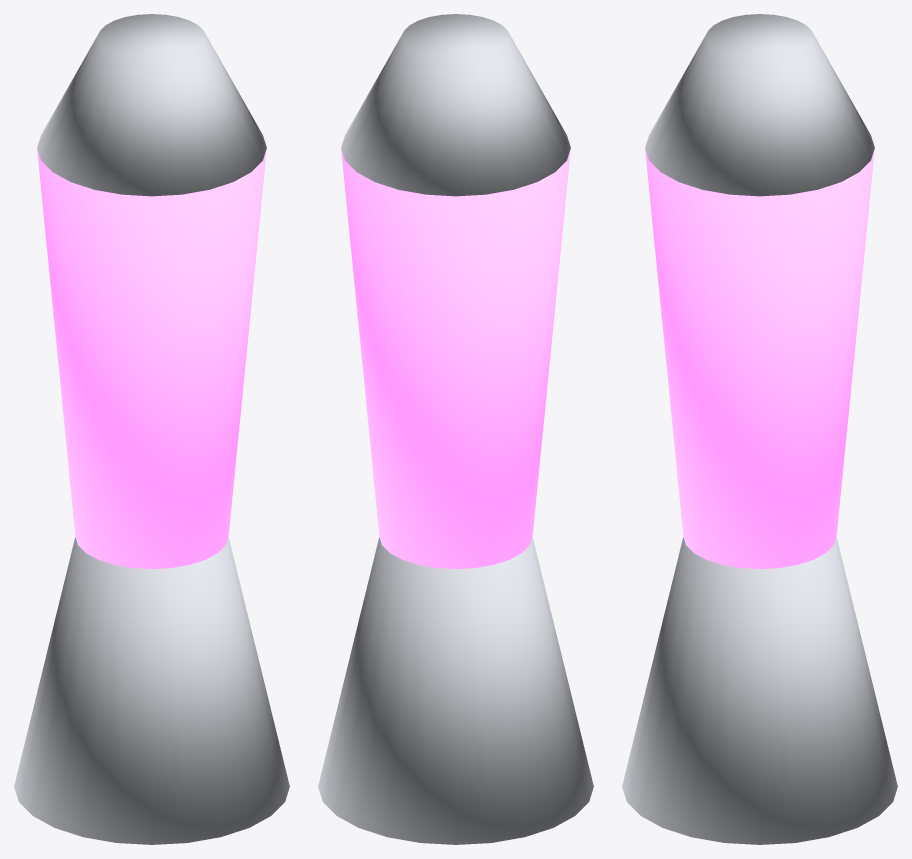
The model's file is Furn_LavaLamp.fbx.
3 views of the same model, side by side, from view 1: azimuth 30°, elevation 25°; view 2: azimuth 150°, elevation 25°; view 3: azimuth 270°, elevation 25° (orthographic).
Visible parts, largest first — view 1: Furn_LavaLamp; view 2: Furn_LavaLamp; view 3: Furn_LavaLamp.
Part boxes in pixels (box(x1,y1,x2,y2)): Furn_LavaLamp: box(14, 14, 289, 844); Furn_LavaLamp: box(318, 14, 593, 844); Furn_LavaLamp: box(622, 14, 897, 844).
Bounding box in the file's own units: 0.18 × 0.54 × 0.18.
